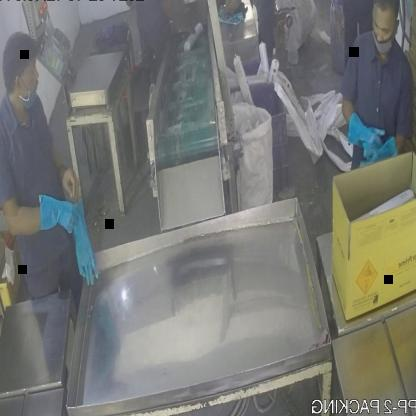glove: (339, 97, 384, 175), (66, 208, 98, 298), (33, 196, 76, 248)
no_glove: (164, 0, 198, 48), (55, 154, 86, 202), (219, 0, 238, 17), (233, 0, 256, 14)
